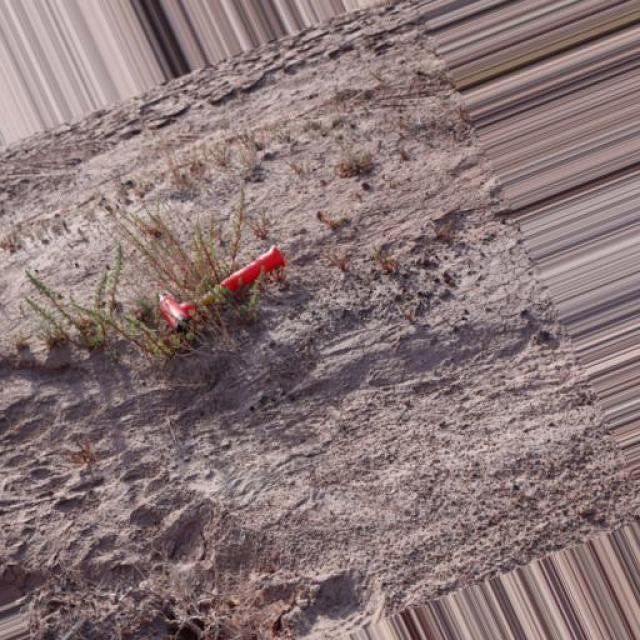mallet: (158, 242, 288, 334)
